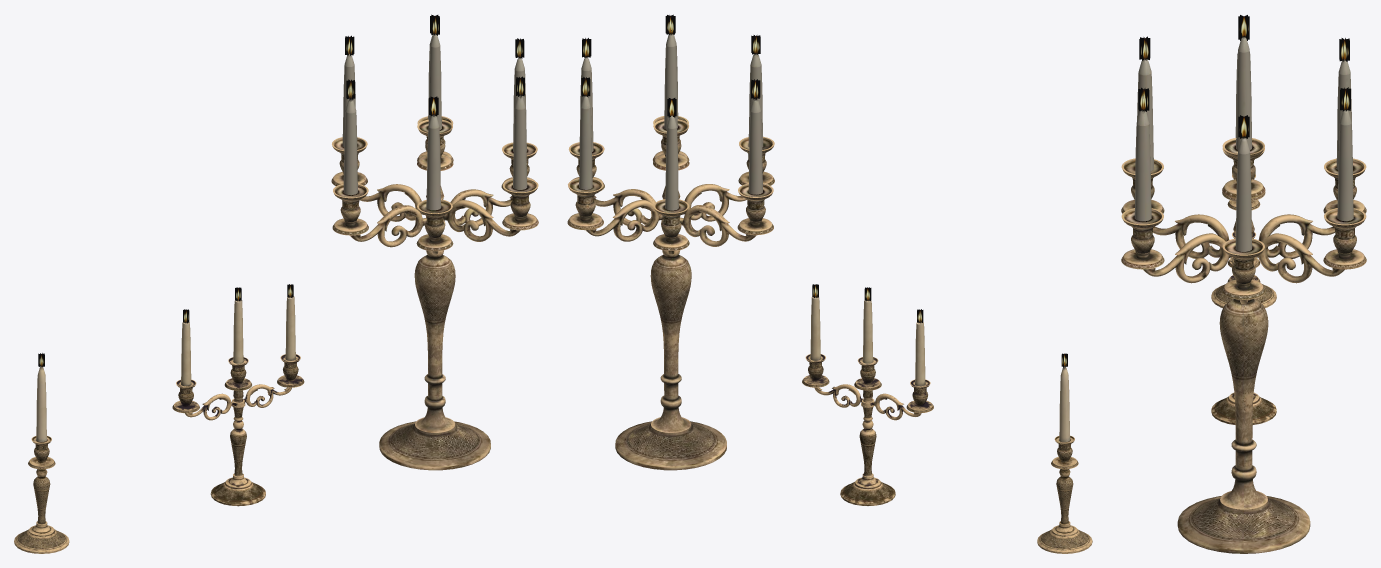
The model's file is brass_candleholders.glb.
The picture shows the model from 3 angles, left to right: view 1: azimuth 30°, elevation 25°; view 2: azimuth 150°, elevation 25°; view 3: azimuth 270°, elevation 25°; orthographic projection. The views are drawn at different scales.
Visible parts, largest first — view 1: brass_candleholder_03, brass_candleholder_02, brass_candleholder_01; view 2: brass_candleholder_03, brass_candleholder_02, brass_candleholder_01; view 3: brass_candleholder_03, brass_candleholder_02, brass_candleholder_01.
Part boxes in pixels (x1=…): brass_candleholder_03: x1=331, y1=14, x2=538, y2=470; brass_candleholder_02: x1=172, y1=284, x2=304, y2=506; brass_candleholder_01: x1=14, y1=353, x2=69, y2=553; brass_candleholder_03: x1=567, y1=14, x2=774, y2=470; brass_candleholder_02: x1=802, y1=284, x2=933, y2=505; brass_candleholder_01: x1=1037, y1=353, x2=1092, y2=553; brass_candleholder_03: x1=1121, y1=15, x2=1366, y2=553; brass_candleholder_02: x1=1211, y1=232, x2=1276, y2=424; brass_candleholder_01: x1=1211, y1=174, x2=1276, y2=307.
Bounding box in the file's own units: 1.05 × 0.8353 × 0.3646.
5 materials, 5 textured.
